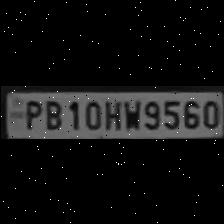0: (80, 96, 102, 130), (200, 96, 220, 128)
1: (63, 96, 81, 130)
5: (160, 97, 180, 129)
6: (180, 97, 200, 129)
9: (140, 97, 160, 129)
B: (41, 96, 63, 130)
H: (102, 96, 120, 130)
P: (20, 96, 40, 130)
W: (121, 96, 139, 130)
